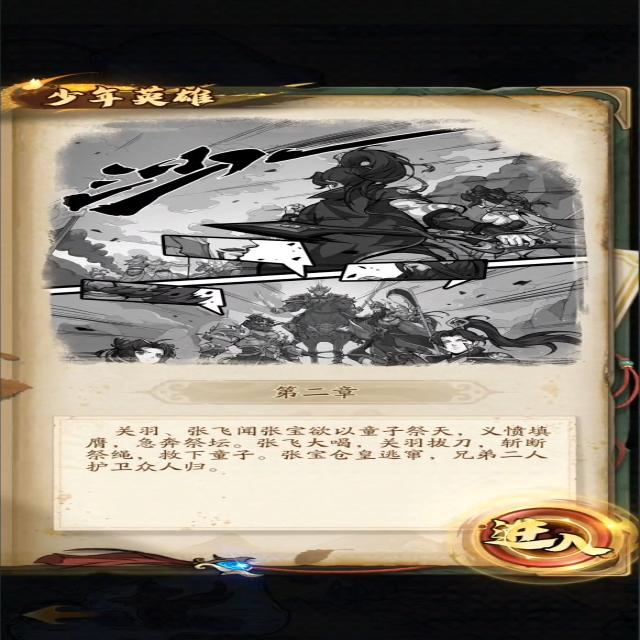hint-guide: (443, 489, 640, 587)
operation-confirm: (454, 499, 630, 575)
